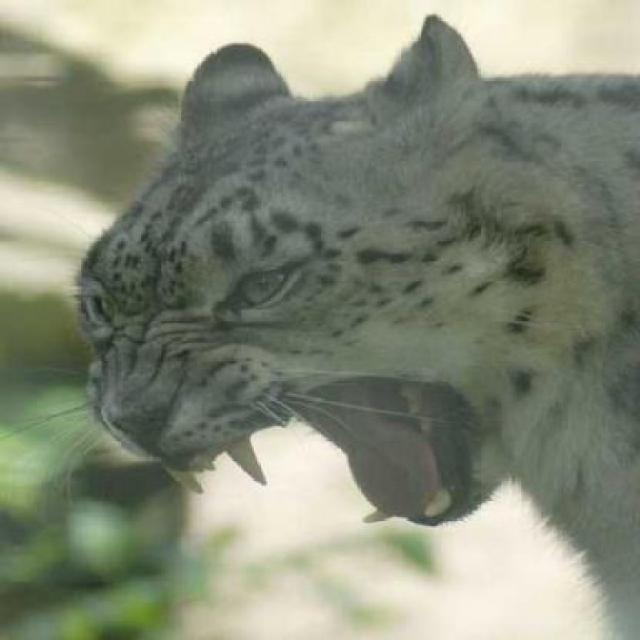Leopard: (44, 0, 638, 615)
